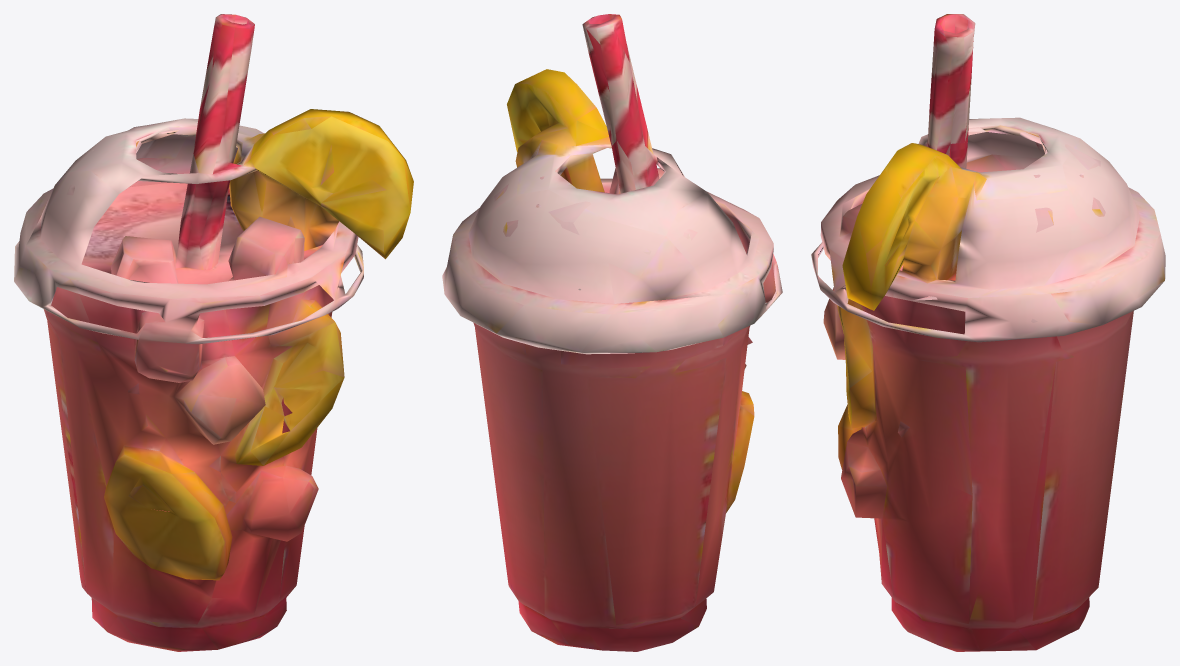
3 renders of one model, left to right at view 1: azimuth 30°, elevation 25°; view 2: azimuth 150°, elevation 25°; view 3: azimuth 270°, elevation 25°, orthographic. The views are drawn at different scales.
Parts seen in each view (by area): view 1: lemonade; view 2: lemonade; view 3: lemonade.
Boxes of the visible parts, x1,y1,x2,y2 form: lemonade: [14, 14, 413, 651]; lemonade: [442, 14, 782, 651]; lemonade: [811, 14, 1165, 651].
Bounding box in the file's own units: 0.099 × 0.1799 × 0.095.
Materials: 1 (1 with a texture image).
